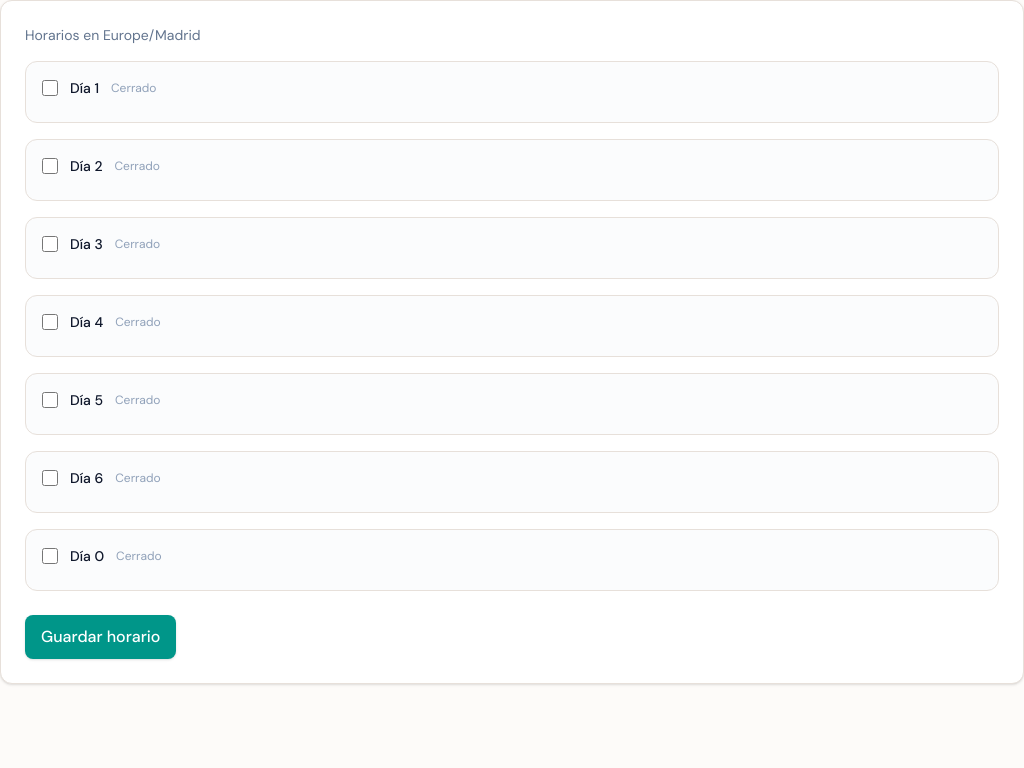
Test: ScheduleEditor › al activar un día cerrado aparece el tramo horario por defecto (09:00–17:00)
The width and height of the screenshot is (1024, 768).
Expected: the field showing "09:00" is not shown
El usuario activa el "Día 1"
Click the checkbox labelled "Día 1". click: (50,88)
box: [42, 80, 58, 96]
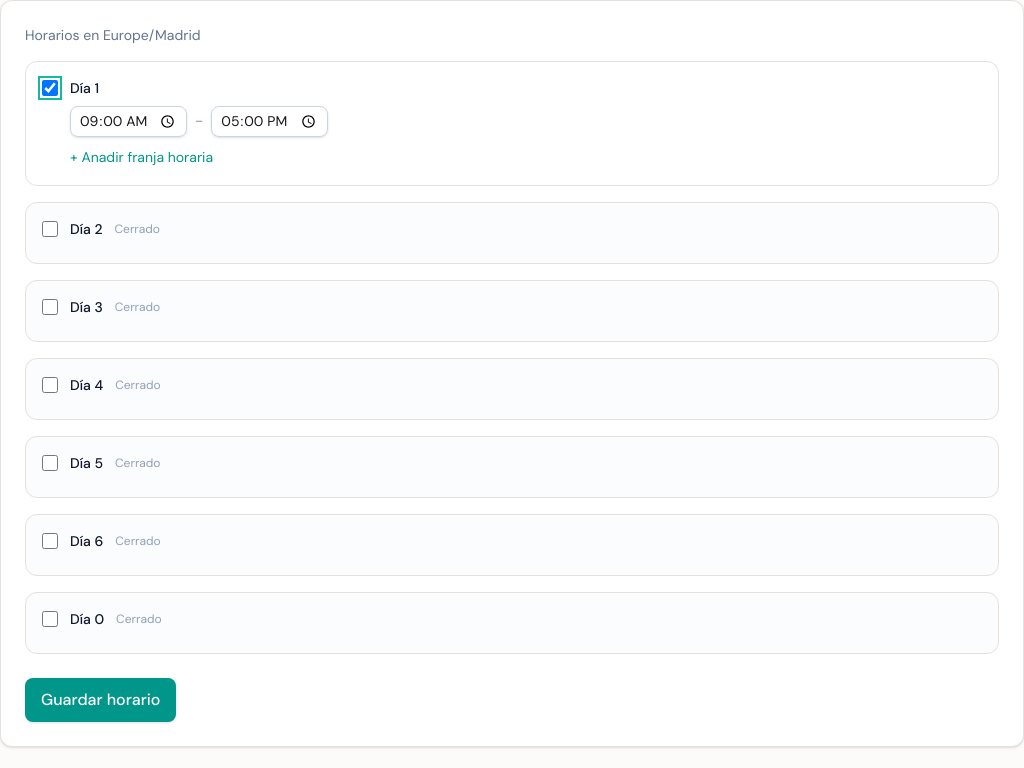
Expected: the 1st time field showing "09:00" is shown, [70, 106, 187, 137]
Expected: the 2nd time field showing "17:00" is shown, [211, 106, 328, 137]
